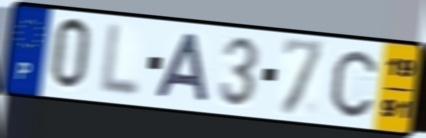0: (48, 15, 95, 96)
3: (217, 35, 263, 110)
7: (280, 35, 329, 120)
A: (152, 31, 211, 106)
C: (329, 48, 379, 120)
L: (96, 21, 143, 101)
